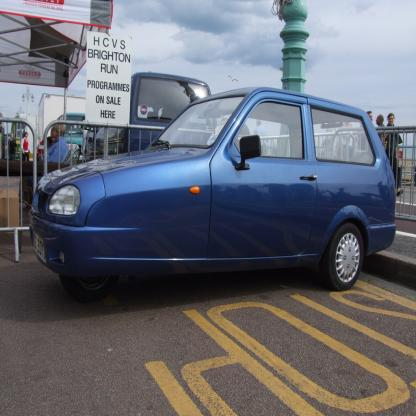Car: (31, 91, 402, 300)
